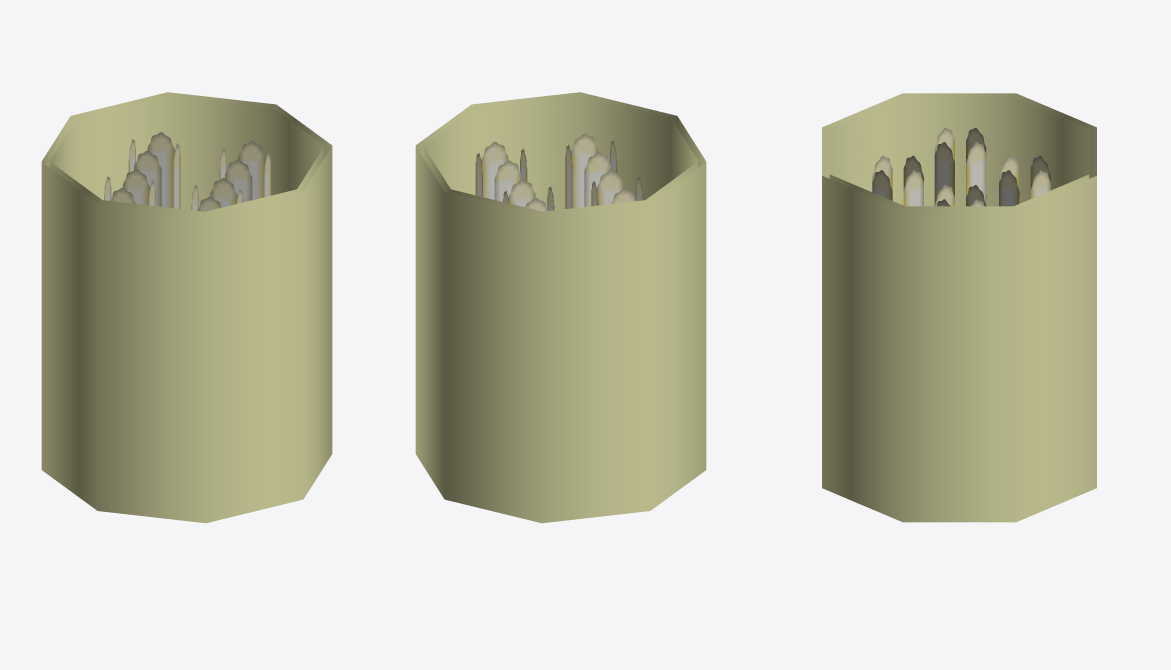
File: frn_all_glow_lantern_s2_l0.fbx
3 views of the same model, side by side, from view 1: azimuth 30°, elevation 25°; view 2: azimuth 150°, elevation 25°; view 3: azimuth 270°, elevation 25° (orthographic).
Parts seen in each view (by area): view 1: mesh_node; view 2: mesh_node; view 3: mesh_node.
Boxes of the visible parts, left/top/right/bottom form: mesh_node: left=41, top=92, right=332, bottom=523; mesh_node: left=415, top=92, right=706, bottom=523; mesh_node: left=822, top=93, right=1096, bottom=522.
Size of the model in its own units: 0.2719 by 0.4747 by 0.3282.
